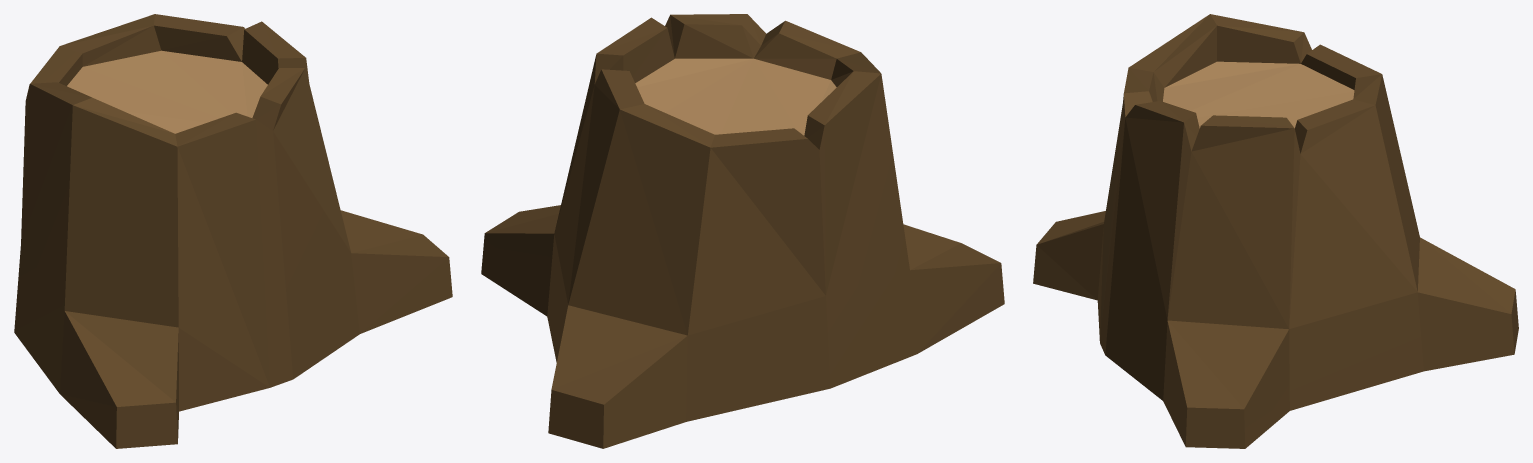
The model's file is Stump_01.fbx.
The picture shows the model from 3 angles, left to right: view 1: azimuth 30°, elevation 25°; view 2: azimuth 150°, elevation 25°; view 3: azimuth 270°, elevation 25°; orthographic projection. The views are drawn at different scales.
Visible parts, largest first — view 1: Stump_01; view 2: Stump_01; view 3: Stump_01.
Boxes of the visible parts, <box> form: Stump_01: <box>14,14,452,448</box>; Stump_01: <box>481,14,1004,448</box>; Stump_01: <box>1033,14,1518,448</box>.
Bounding box in the file's own units: 65.53 × 42.11 × 70.18.
